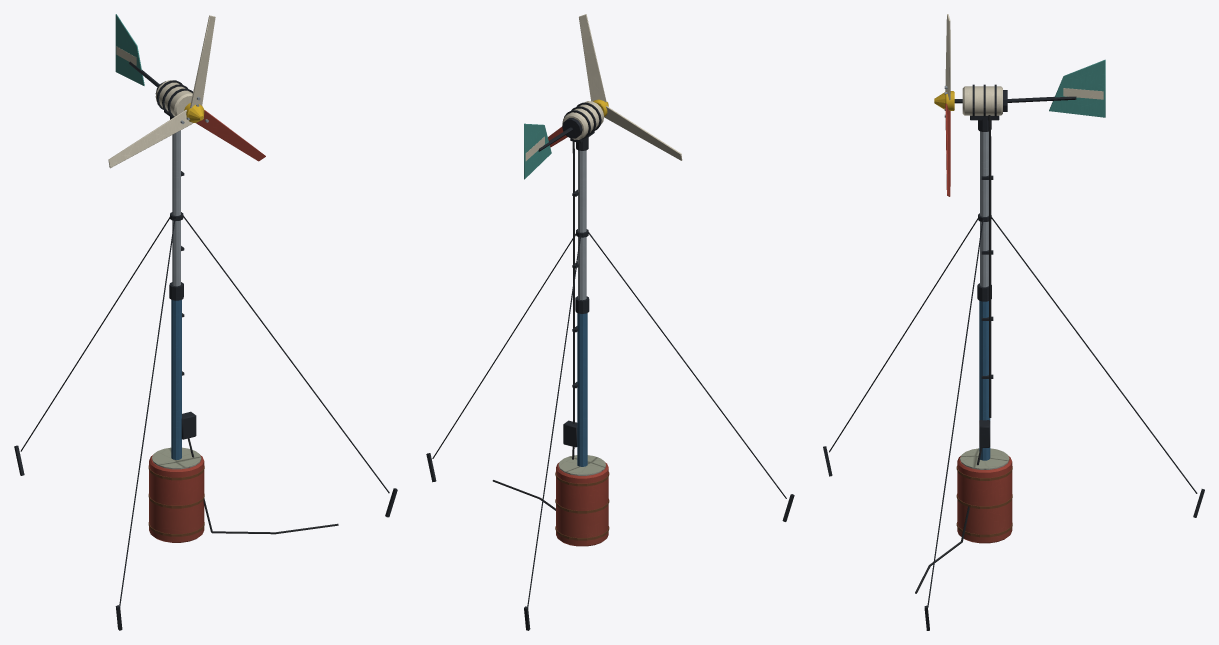
Rendered from scrap_windmill_turbine.glb.
3 views of the same model, side by side, from view 1: azimuth 30°, elevation 25°; view 2: azimuth 150°, elevation 25°; view 3: azimuth 270°, elevation 25° (orthographic). The views are drawn at different scales.
Visible parts, largest first — view 1: scrap_windmill_turbine; view 2: scrap_windmill_turbine; view 3: scrap_windmill_turbine.
Boxes of the visible parts, x1,y1,x2,y2 form: scrap_windmill_turbine: (14, 14, 397, 630); scrap_windmill_turbine: (426, 14, 794, 630); scrap_windmill_turbine: (823, 14, 1204, 630).
Size of the model in its own units: 4.17 by 6.44 by 4.17.
Materials: 14 (14 with a texture image).
